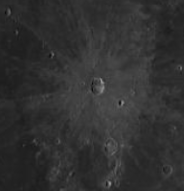crater: (60, 45, 118, 133), (96, 129, 135, 163), (151, 153, 179, 185)
